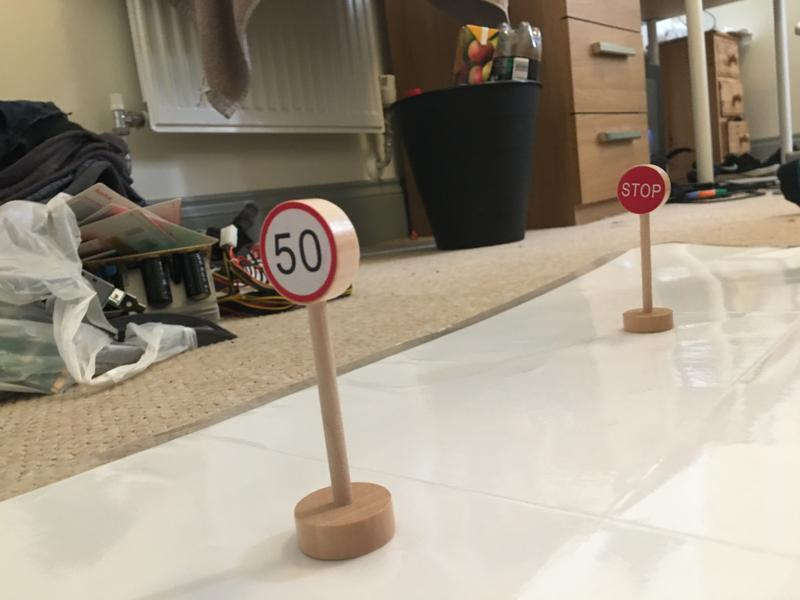Traffic_Sign_50: (261, 206, 339, 305)
Traffic_Sign_Stop: (616, 168, 667, 212)
